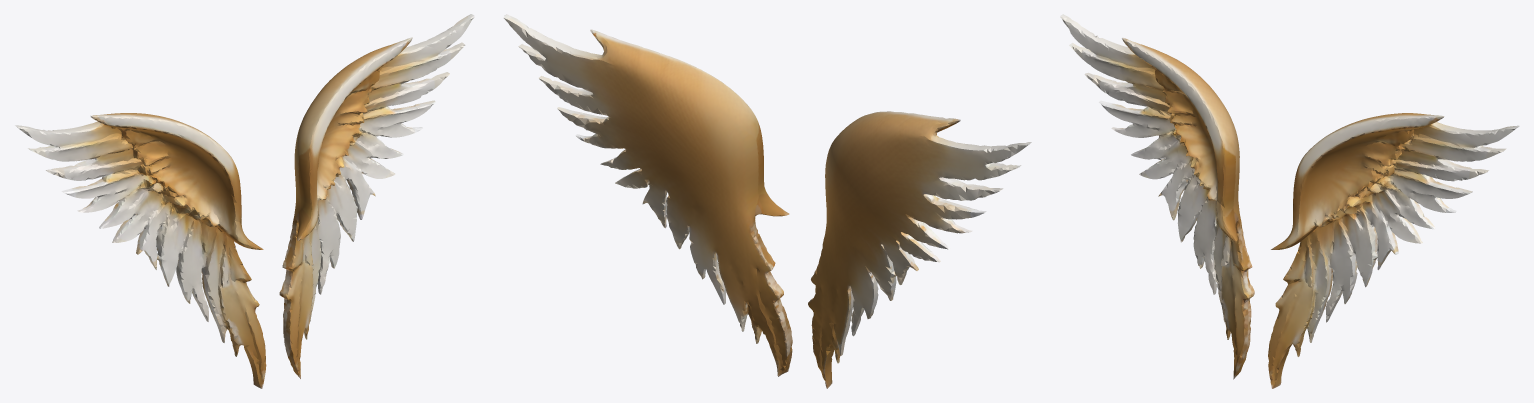
The model's file is valkyrie_wing_R.glb.
3 renders of one model, left to right at view 1: azimuth 30°, elevation 25°; view 2: azimuth 150°, elevation 25°; view 3: azimuth 330°, elevation 25°, orthographic. The views are drawn at different scales.
Visible parts, largest first — view 1: valkyrie_wing_R; view 2: valkyrie_wing_R; view 3: valkyrie_wing_R.
Boxes of the visible parts, left/top/right/bottom form: valkyrie_wing_R: left=15, top=14, right=474, bottom=388; valkyrie_wing_R: left=503, top=14, right=1031, bottom=388; valkyrie_wing_R: left=1060, top=14, right=1519, bottom=388.
Size of the model in its own units: 1.89 by 1.13 by 0.2816.
Materials: 1 (1 with a texture image).
